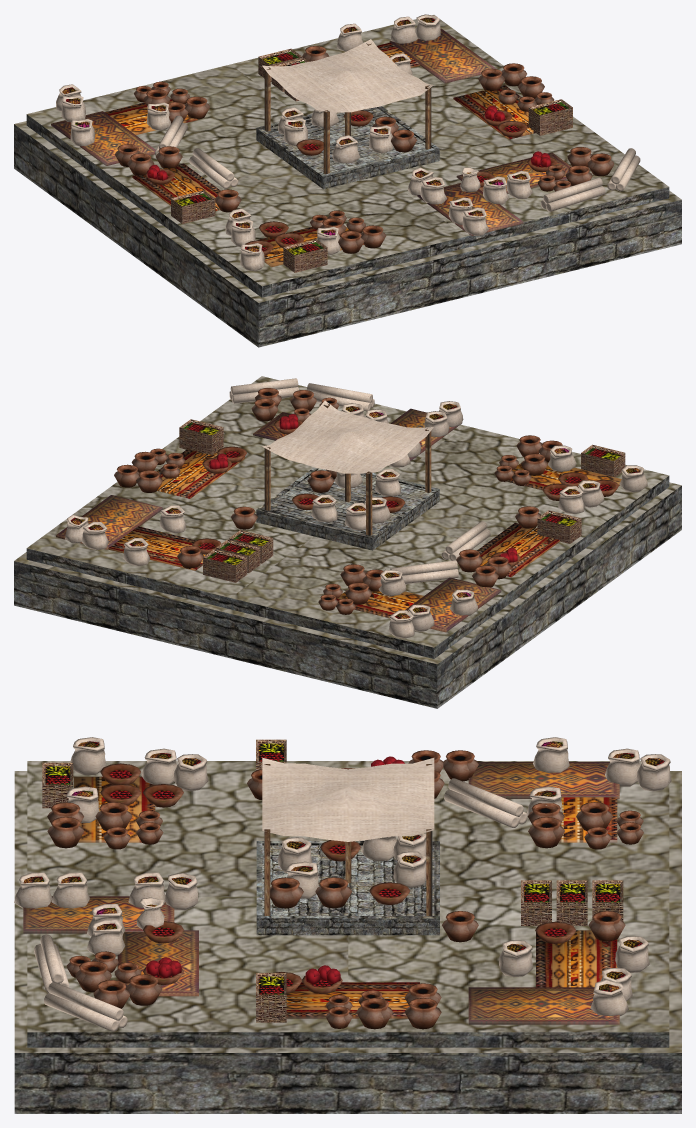
The model's file is inca_market.dae.
The picture shows the model from 3 angles, top to bottom: view 1: azimuth 30°, elevation 25°; view 2: azimuth 150°, elevation 25°; view 3: azimuth 270°, elevation 25°; orthographic projection. The views are drawn at different scales.
Parts seen in each view (by area): view 1: market; view 2: market; view 3: market.
Boxes of the visible parts, x1,y1,x2,y2 form: market: (14,14,681,347); market: (14,376,681,708); market: (14,737,681,1113).
Bounding box in the file's own units: 27.69 × 27.71 × 8.47.
